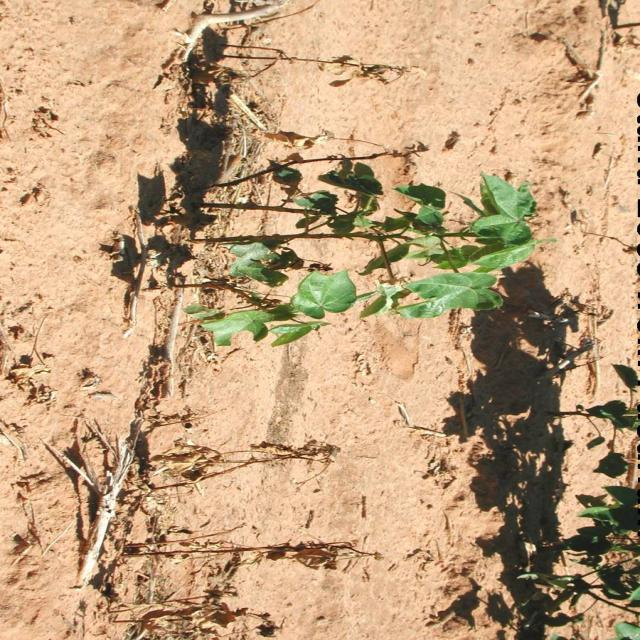Fusarium Wilt: (85, 116, 565, 414), (82, 442, 414, 640)
